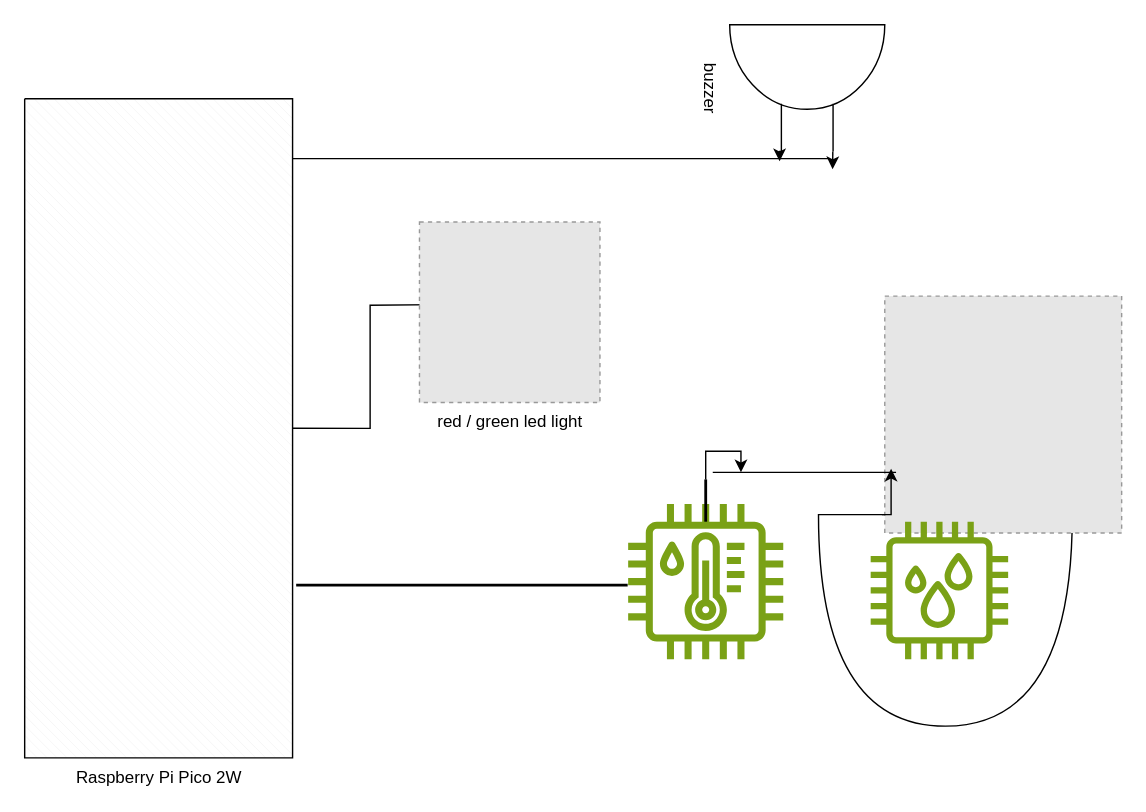
Some shapes in this 1146 by 812 pixel diagram are drawn without their labels. Grey dashed boxes stand in for pictures. The box of each missing label's shape, as (x1, y1, x2, y2) in pixels:
Humidity / temperature sensor: (627, 503, 783, 658)
soil moisture sensor: (870, 521, 1007, 658)
